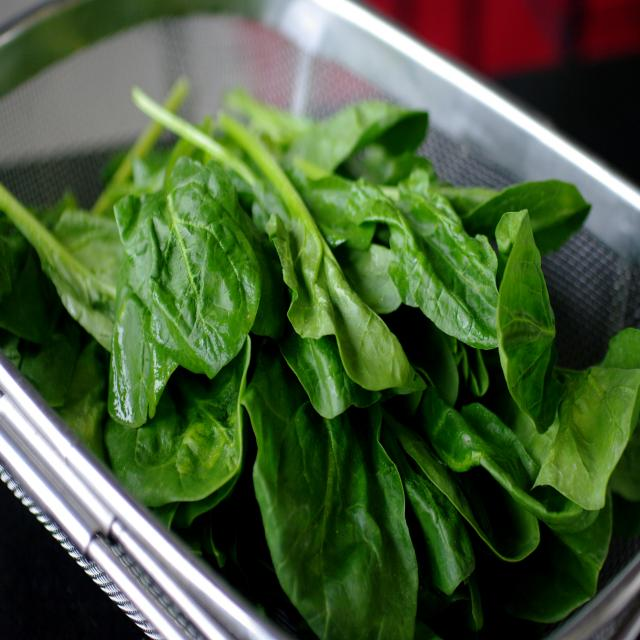spinach: (260, 417, 415, 640), (136, 174, 264, 370), (164, 385, 248, 504)
